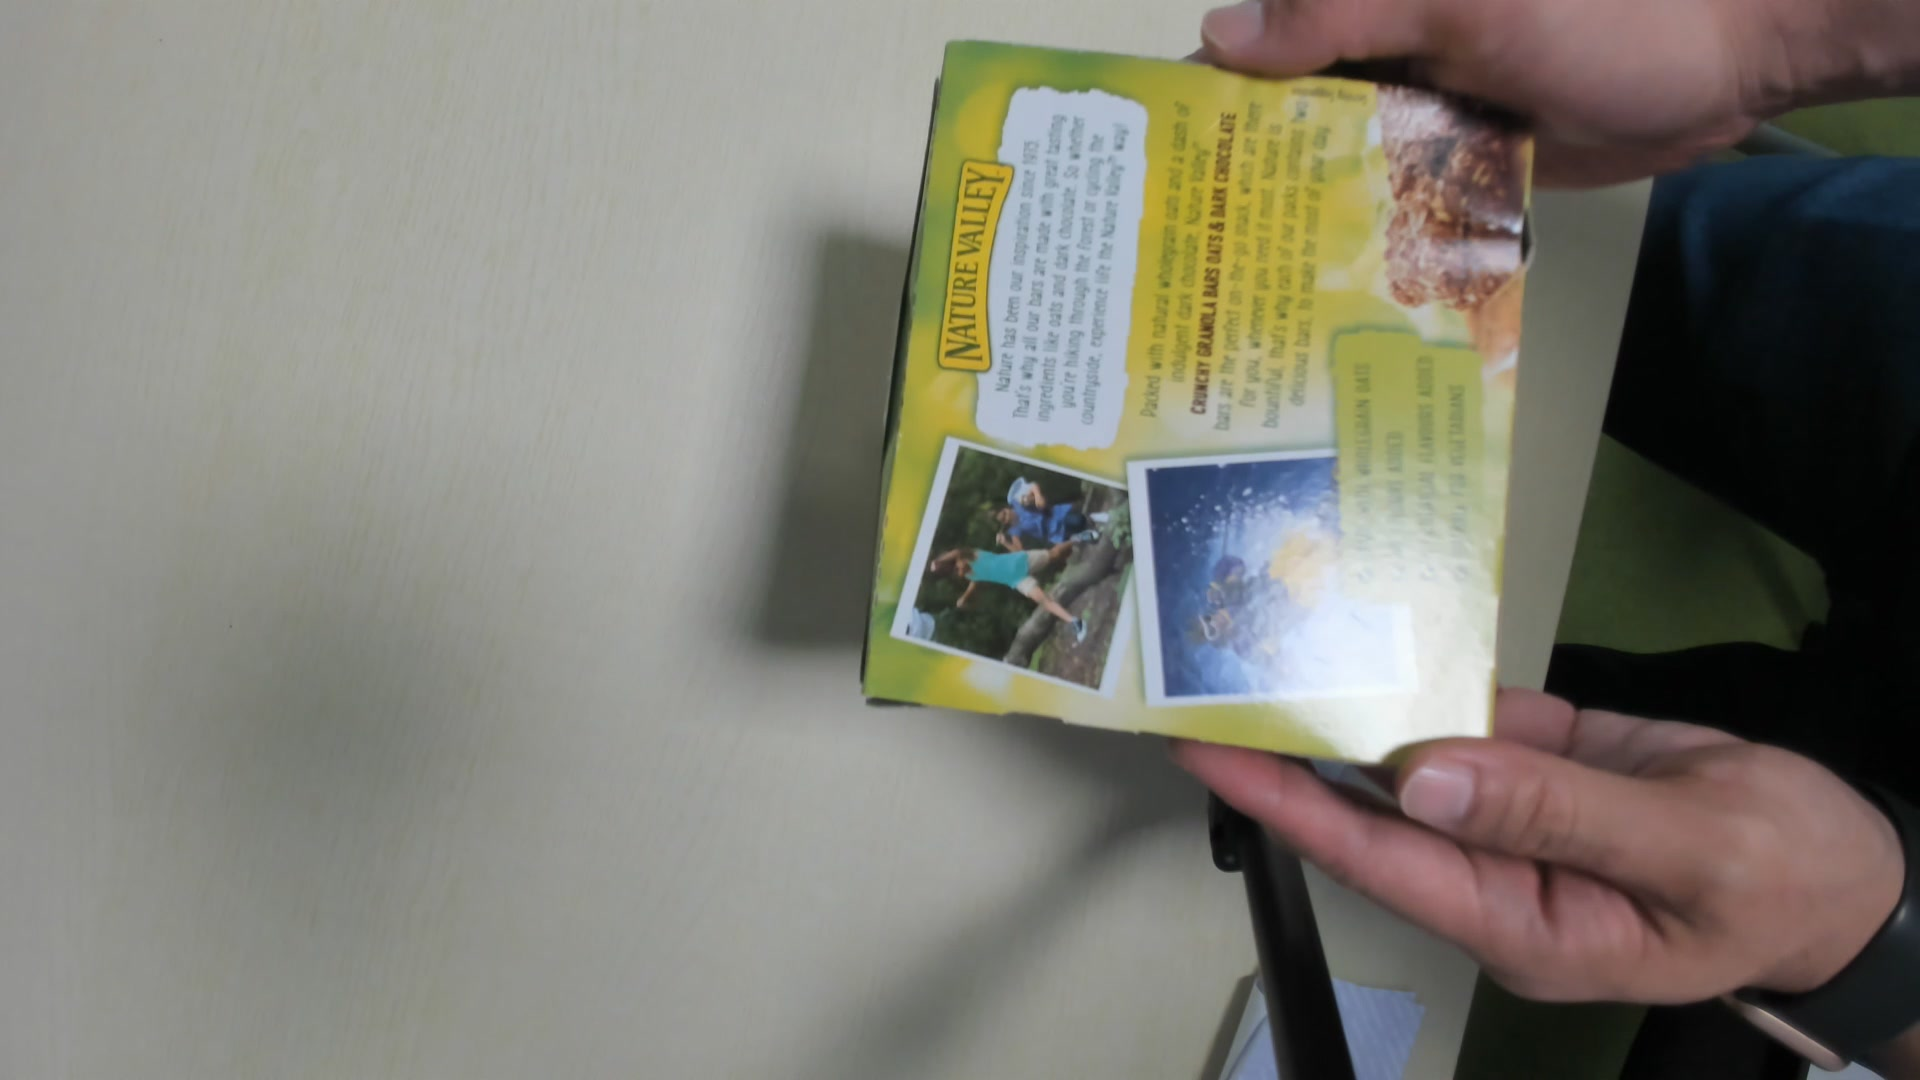SweetsChocolatesOthers_200-299g_Halal_Nonhealthy: (855, 36, 1528, 789)
